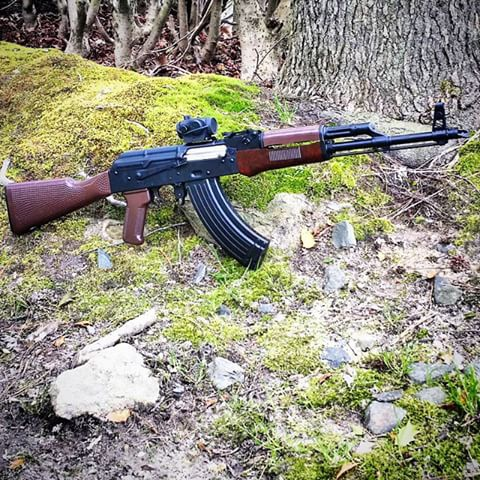ak47: (9, 103, 463, 269)
